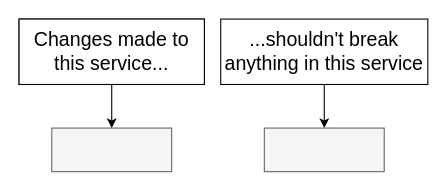
The diagram is 447 pixels wide and 191 high, and some of its shapes have lost their labels. The shapes that lost their labels are listed below. From the top down, each one's centre as x and y in pixels, then its label:
At point (111, 149): "auth".
At point (323, 149): "payments".
